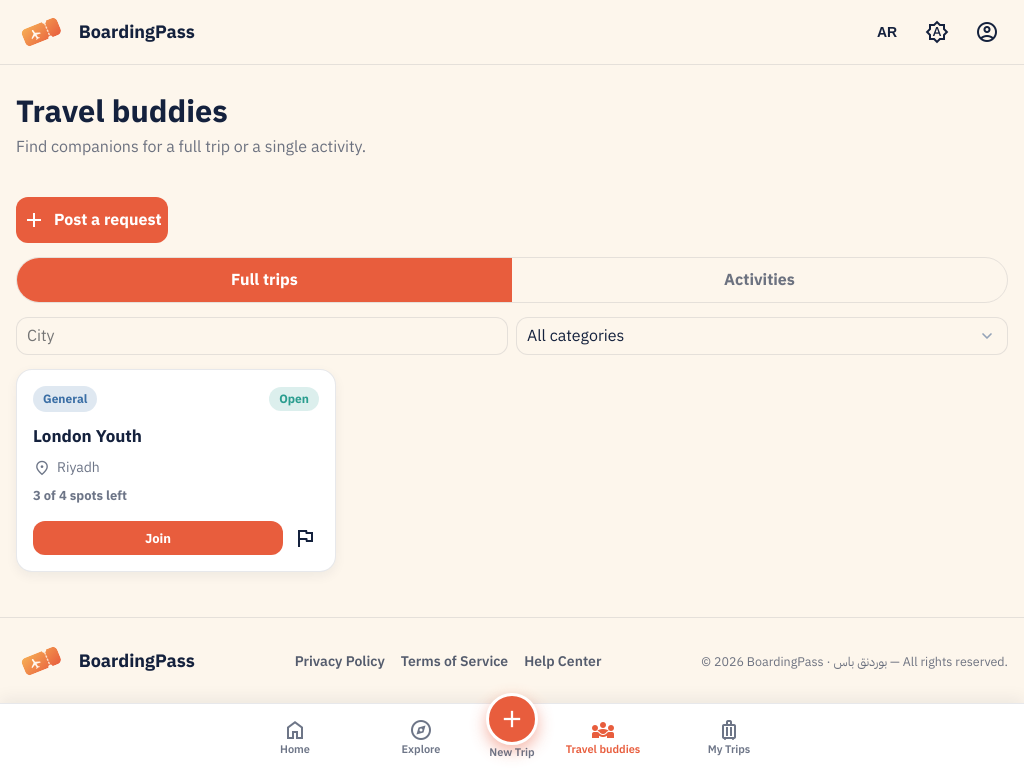
Test: US-011 Travel Buddies UI › flags a request for moderation (AC5)
The width and height of the screenshot is (1024, 768).
Click the button named "Report". click: (305, 538)
box: [291, 524, 319, 552]
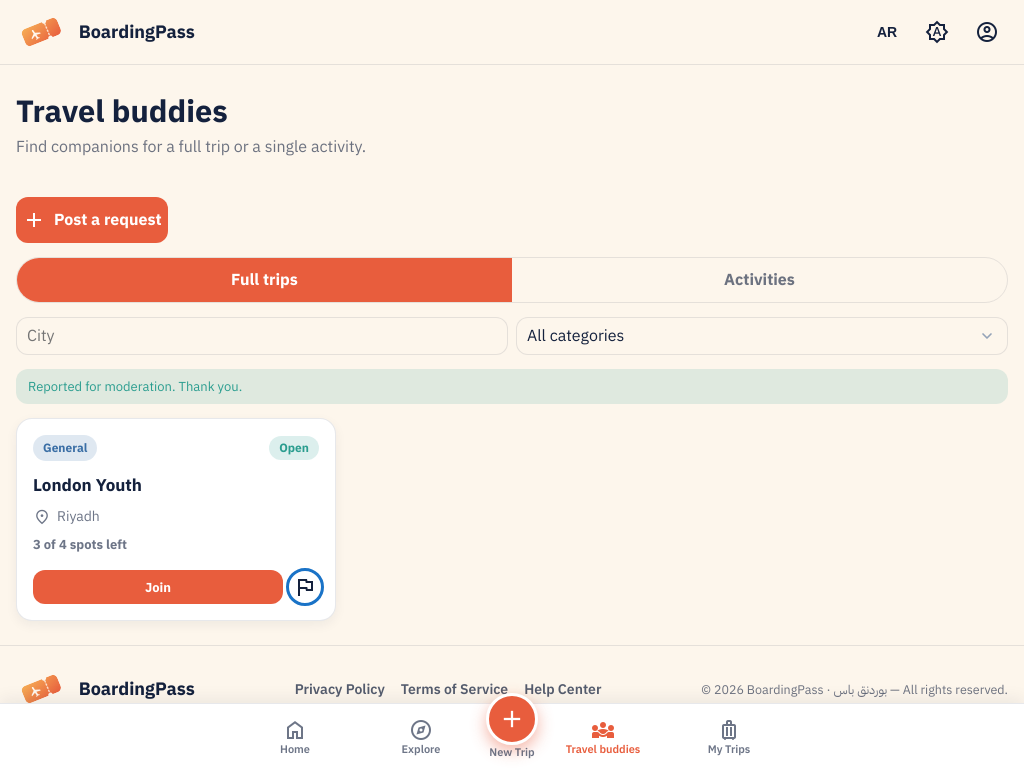
Now the text "Reported for moderation. Thank you." is shown, box [16, 369, 1008, 404]
